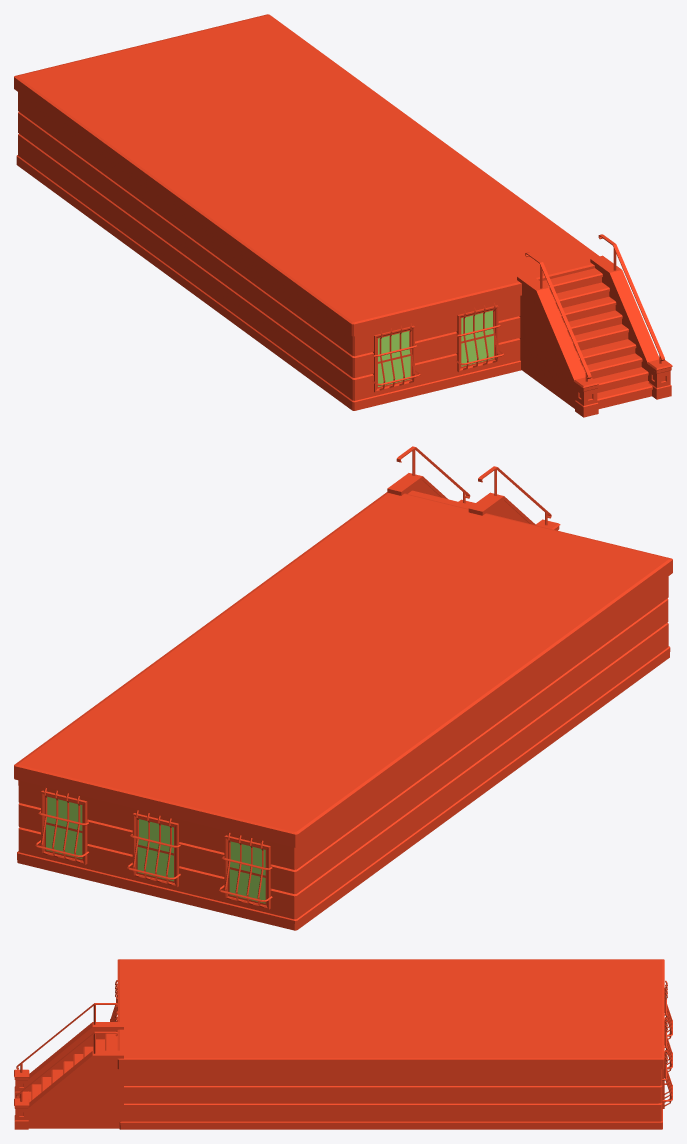
The model's file is SM_Squarehouse_Bottom_C_FB_City.fbx.
The picture shows the model from 3 angles, top to bottom: view 1: azimuth 30°, elevation 25°; view 2: azimuth 150°, elevation 25°; view 3: azimuth 270°, elevation 25°; orthographic projection. The views are drawn at different scales.
Parts seen in each view (by area): view 1: SM_Squarehouse_Bottom_C_FB_City; view 2: SM_Squarehouse_Bottom_C_FB_City; view 3: SM_Squarehouse_Bottom_C_FB_City.
Part boxes in pixels (x1,y1,x2,y2): SM_Squarehouse_Bottom_C_FB_City: (14, 14, 672, 417); SM_Squarehouse_Bottom_C_FB_City: (14, 446, 672, 930); SM_Squarehouse_Bottom_C_FB_City: (14, 959, 672, 1129).
Bounding box in the file's own units: 6.14 × 2.7 × 16.97.
